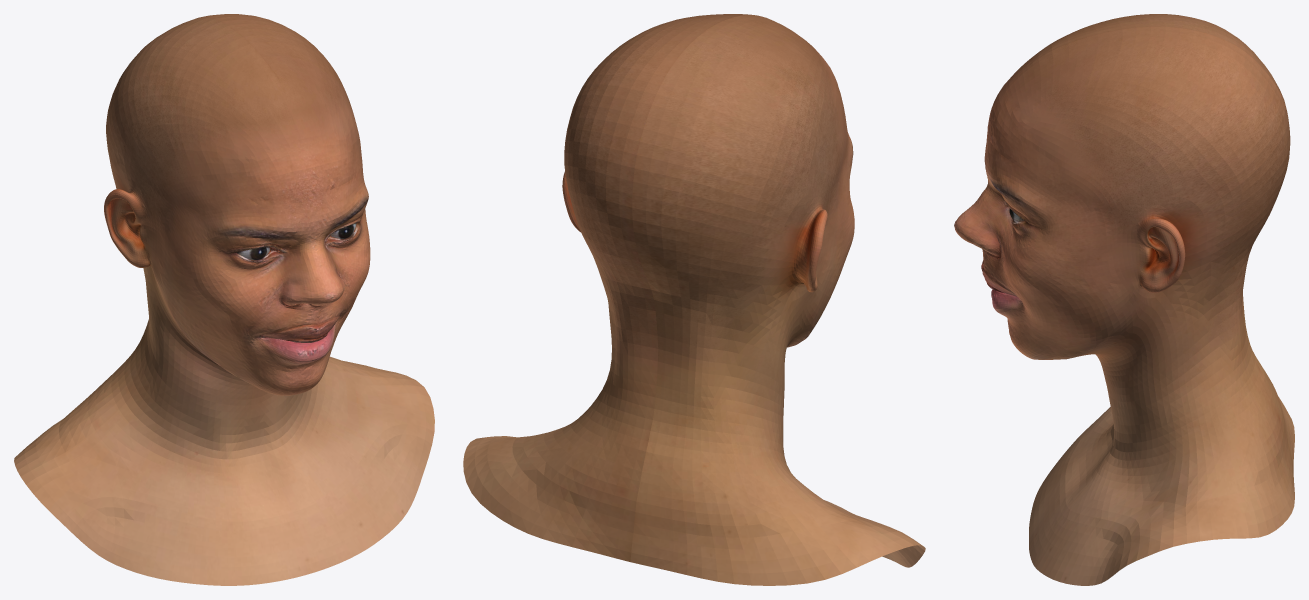
The picture shows the model from 3 angles, left to right: view 1: azimuth 30°, elevation 25°; view 2: azimuth 150°, elevation 25°; view 3: azimuth 270°, elevation 25°; orthographic projection. The views are drawn at different scales.
Visible parts, largest first — view 1: head_lod0_mesh; view 2: head_lod0_mesh; view 3: head_lod0_mesh.
Boxes of the visible parts, bbox=[...] form: head_lod0_mesh: bbox=[14, 14, 434, 585]; head_lod0_mesh: bbox=[463, 14, 925, 585]; head_lod0_mesh: bbox=[954, 14, 1294, 585].
Bounding box in the file's own units: 29.88 × 36.03 × 21.71.
5 materials, 4 textured.
